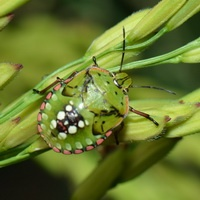insect: (37, 26, 158, 153)
